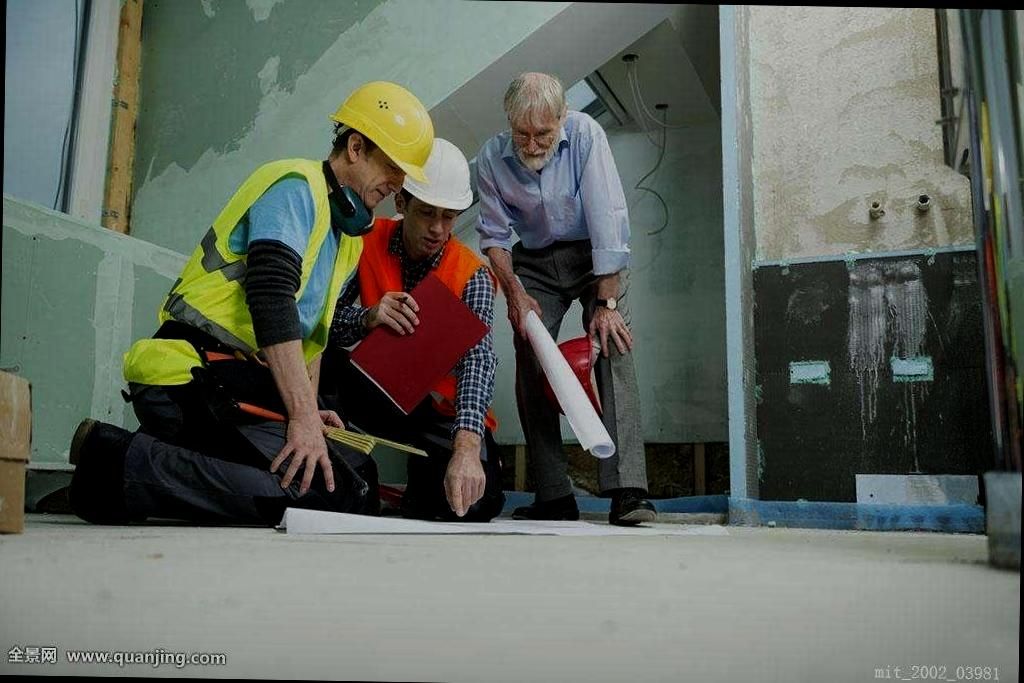helmet: (320, 86, 440, 195)
person: (114, 75, 432, 544), (460, 66, 642, 531)
